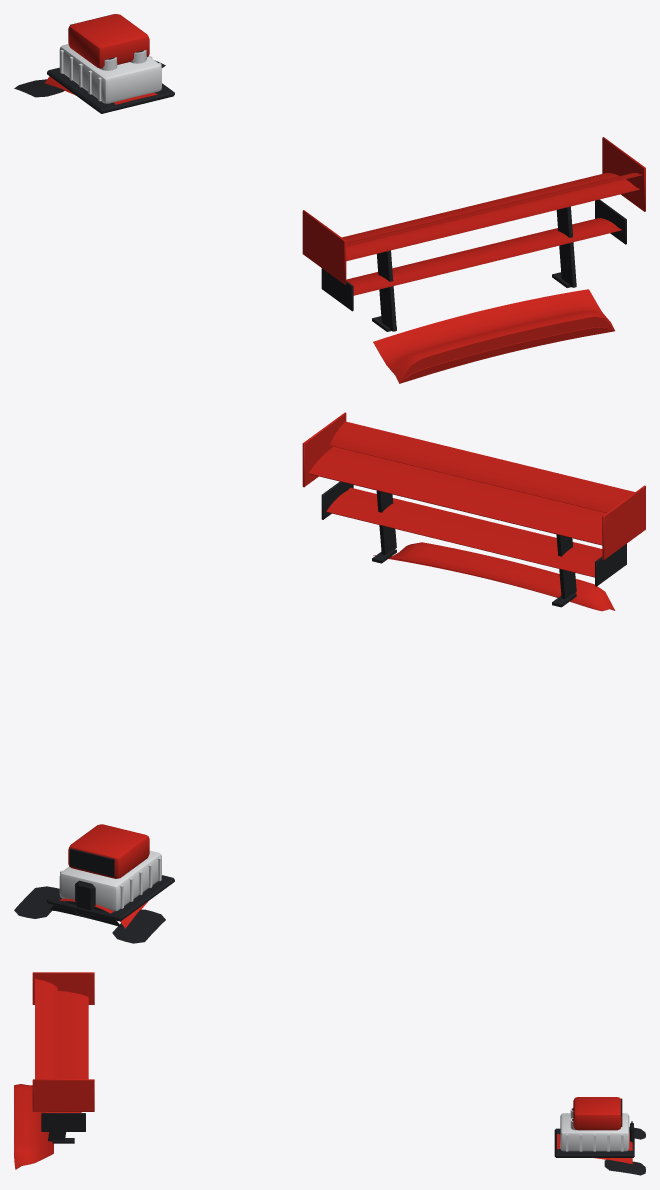
Rendered from suv_kit.glb.
The picture shows the model from 3 angles, top to bottom: view 1: azimuth 30°, elevation 25°; view 2: azimuth 150°, elevation 25°; view 3: azimuth 270°, elevation 25°; orthographic projection. The views are drawn at different scales.
Visible parts, largest first — view 1: spoiler_mega, spoiler_ducktail, bonnet_blower, spoiler_wing, spoiler_lip, bonnet_vents; view 2: spoiler_mega, spoiler_wing, bonnet_blower, spoiler_ducktail, bonnet_vents; view 3: spoiler_mega, bonnet_blower, spoiler_ducktail, spoiler_wing, bonnet_vents.
Part boxes in pixels (x1,y1,x2,y2): spoiler_mega: (302, 137, 645, 331); spoiler_ducktail: (373, 289, 614, 383); bonnet_blower: (47, 14, 174, 113); spoiler_wing: (321, 199, 626, 318); spoiler_lip: (394, 327, 614, 383); bonnet_vents: (14, 60, 165, 97); spoiler_mega: (302, 412, 645, 607); spoiler_wing: (321, 481, 626, 598); bonnet_blower: (47, 824, 174, 921); spoiler_ducktail: (373, 542, 615, 611); bonnet_vents: (14, 886, 165, 943); spoiler_mega: (32, 972, 94, 1143); bonnet_blower: (554, 1097, 634, 1157); spoiler_ducktail: (14, 1084, 53, 1169); spoiler_wing: (41, 1112, 85, 1140); bonnet_vents: (604, 1127, 645, 1175).
Size of the model in its own units: 1.84 by 1.02 by 4.58.
